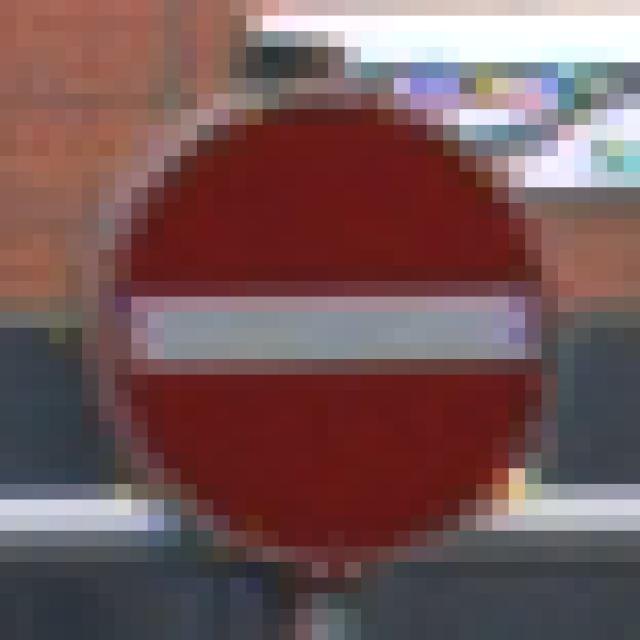No Entry: (83, 79, 559, 563)
